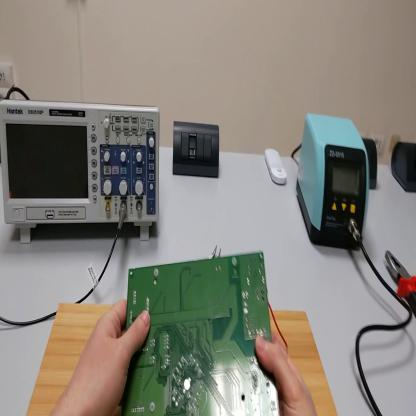hand: (53, 299, 151, 416), (256, 334, 321, 416)
low voltage board: (121, 245, 287, 416)
oscilloscope: (1, 97, 160, 244)
pliers: (387, 250, 416, 321), (209, 245, 225, 259)
socket: (391, 143, 415, 191), (363, 137, 379, 194)
welder station: (298, 112, 371, 256)
working area: (23, 301, 338, 415)
